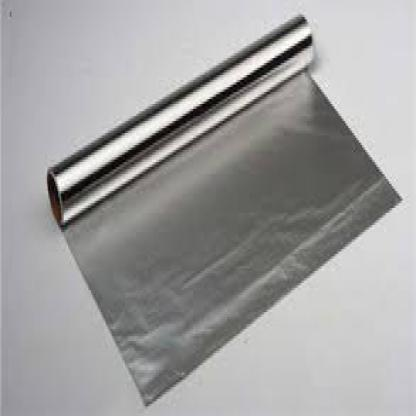METAL: (47, 12, 402, 406)
